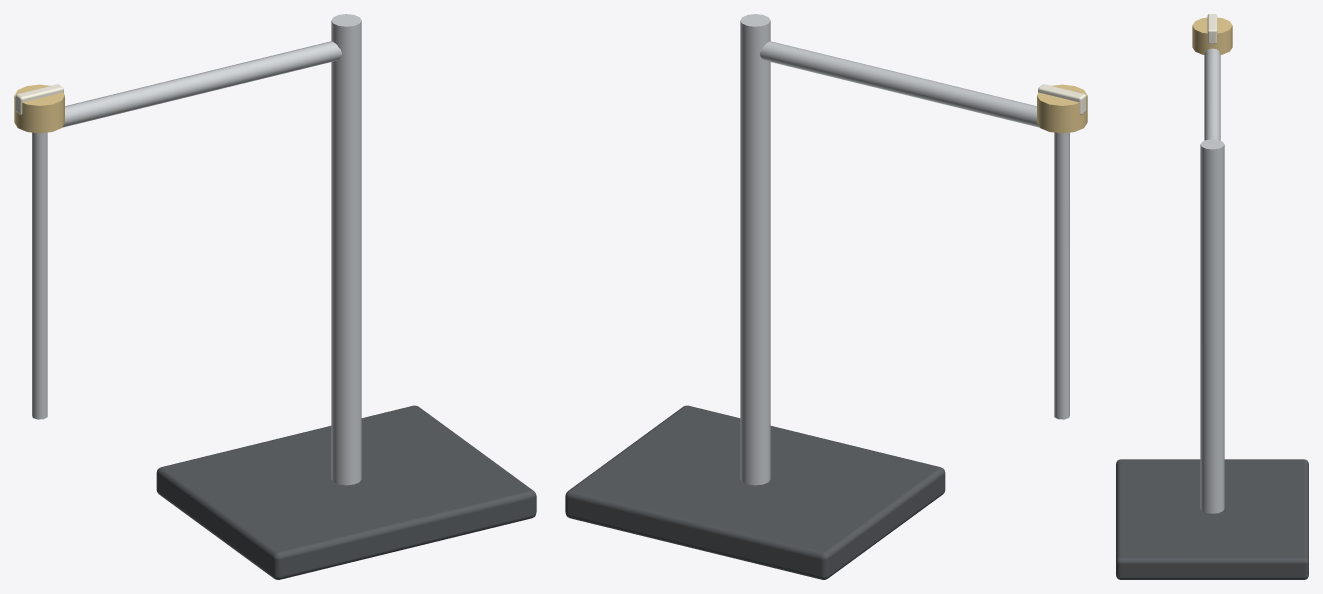
File: geotechnical-soil-testing-laboratory-displacement-sens-d5e67fa4__39053.glb
The picture shows the model from 3 angles, left to right: view 1: azimuth 30°, elevation 25°; view 2: azimuth 150°, elevation 25°; view 3: azimuth 270°, elevation 25°; orthographic projection. The views are drawn at different scales.
Visible parts, largest first — view 1: displacement-sensor-mast; view 2: displacement-sensor-mast; view 3: displacement-sensor-mast.
Boxes of the visible parts, x1,y1,x2,y2 form: displacement-sensor-mast: [14, 14, 536, 579]; displacement-sensor-mast: [565, 14, 1087, 579]; displacement-sensor-mast: [1116, 14, 1308, 579].
Bounding box in the file's own units: 0.525 × 0.535 × 0.24.
